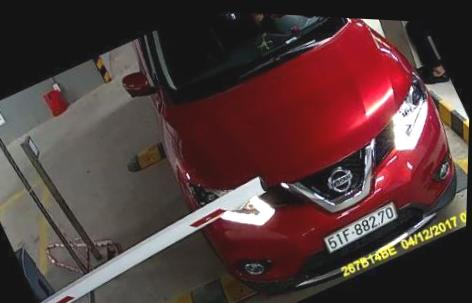License_Plate: (324, 197, 397, 261)
